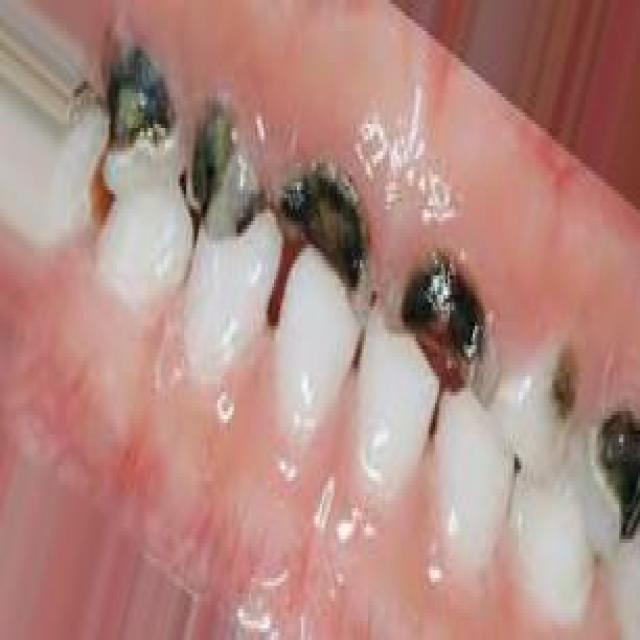caries: (392, 226, 488, 394), (266, 159, 370, 298), (179, 90, 254, 228), (101, 41, 170, 182), (590, 386, 640, 550), (536, 322, 582, 436)
